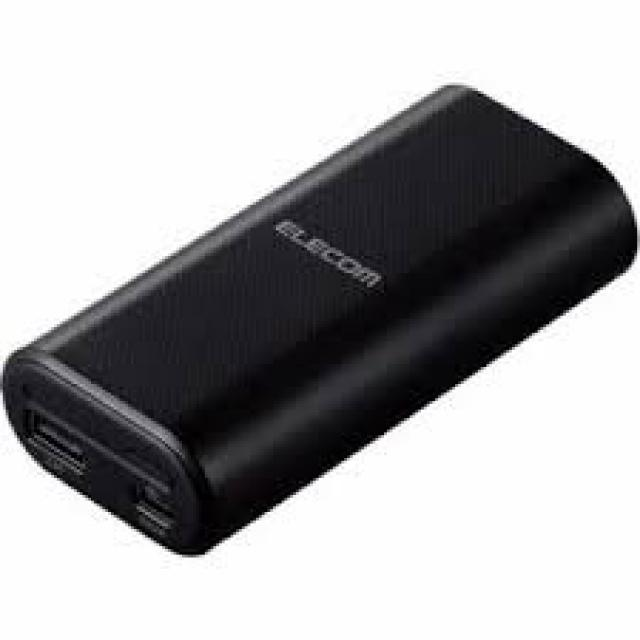battery: (8, 84, 640, 557)
